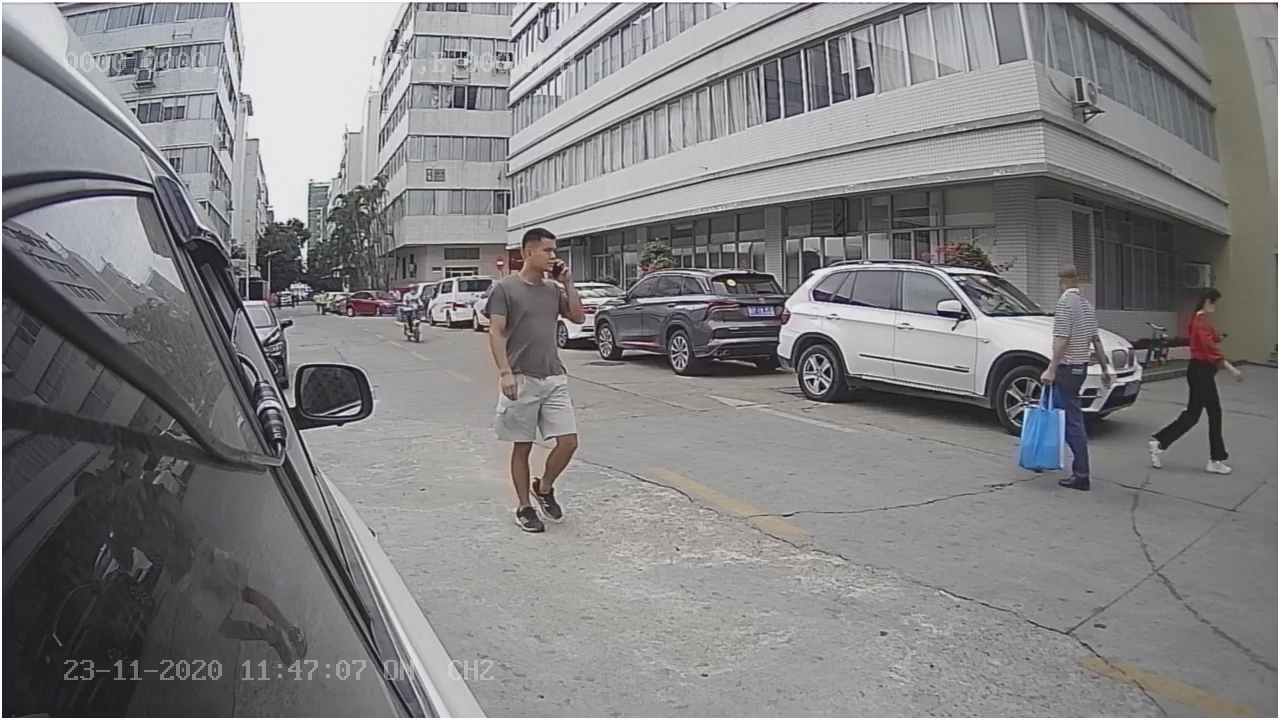person: (483, 210, 597, 534), (1008, 246, 1116, 489), (1144, 271, 1246, 476)
